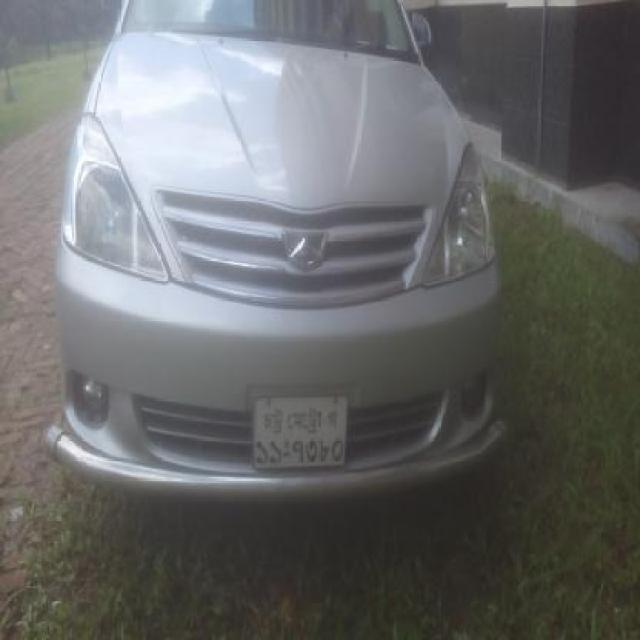numberplate: (250, 393, 348, 470)
